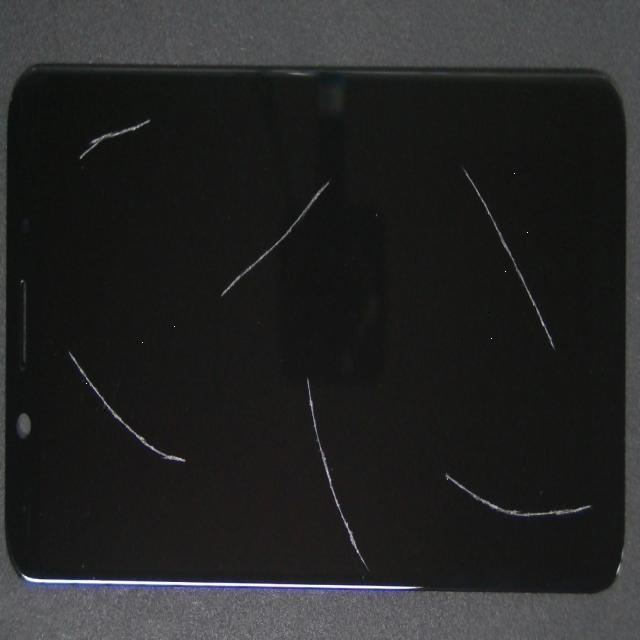scratch: (230, 62, 640, 219), (42, 140, 96, 508), (48, 53, 113, 238)
